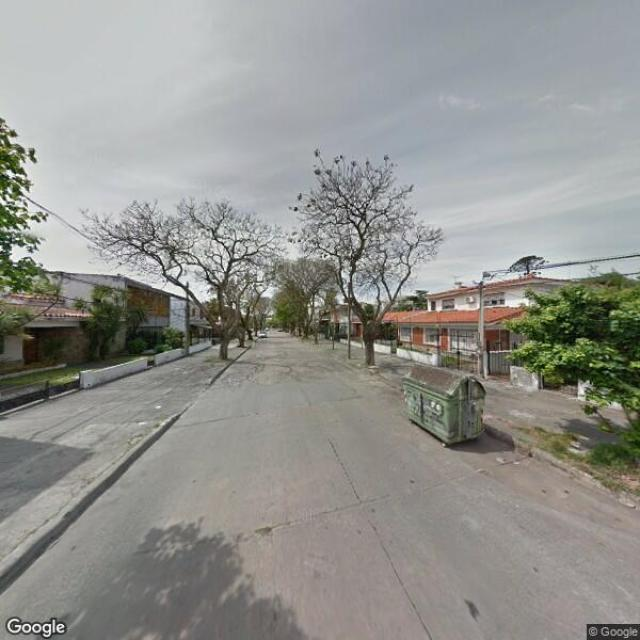garbage container: (398, 357, 497, 462)
